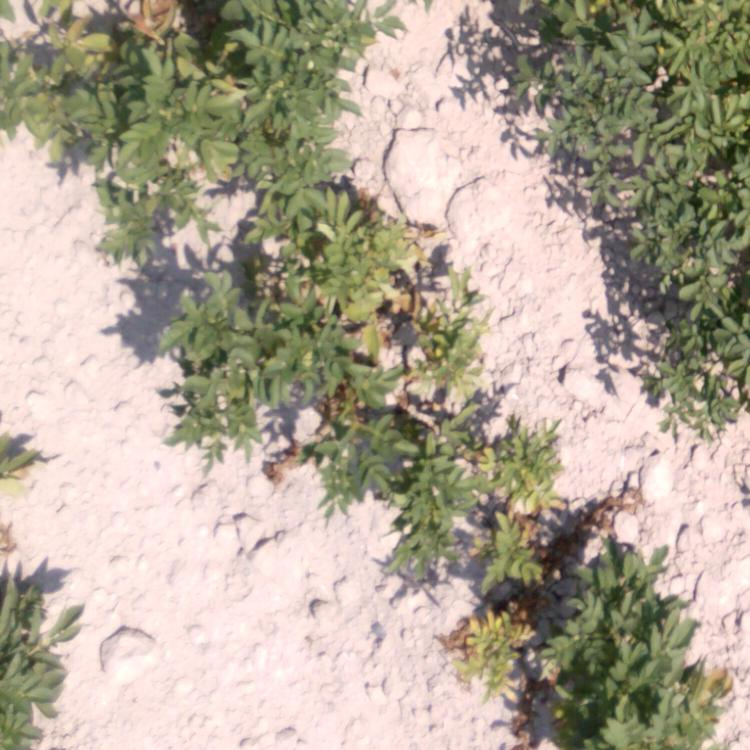healthy: (558, 550, 727, 750), (604, 214, 748, 437), (478, 8, 750, 114), (1, 417, 60, 748), (543, 119, 750, 208)
stressed: (133, 270, 518, 381), (321, 413, 563, 574), (209, 1, 393, 157), (1, 1, 195, 148), (202, 155, 426, 270), (71, 146, 194, 252), (447, 577, 533, 703), (170, 380, 302, 457)
